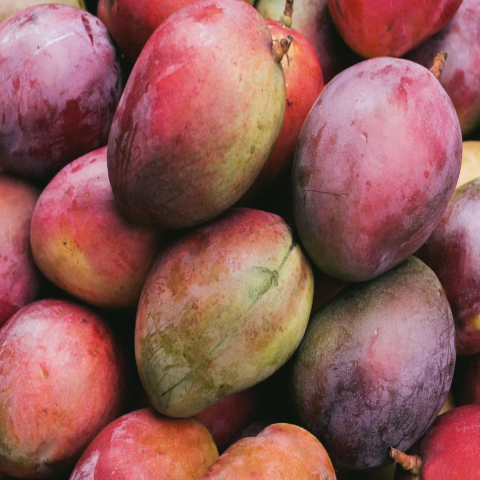mango: (85, 0, 306, 239), (290, 27, 467, 284), (111, 205, 335, 408), (283, 252, 466, 474)
